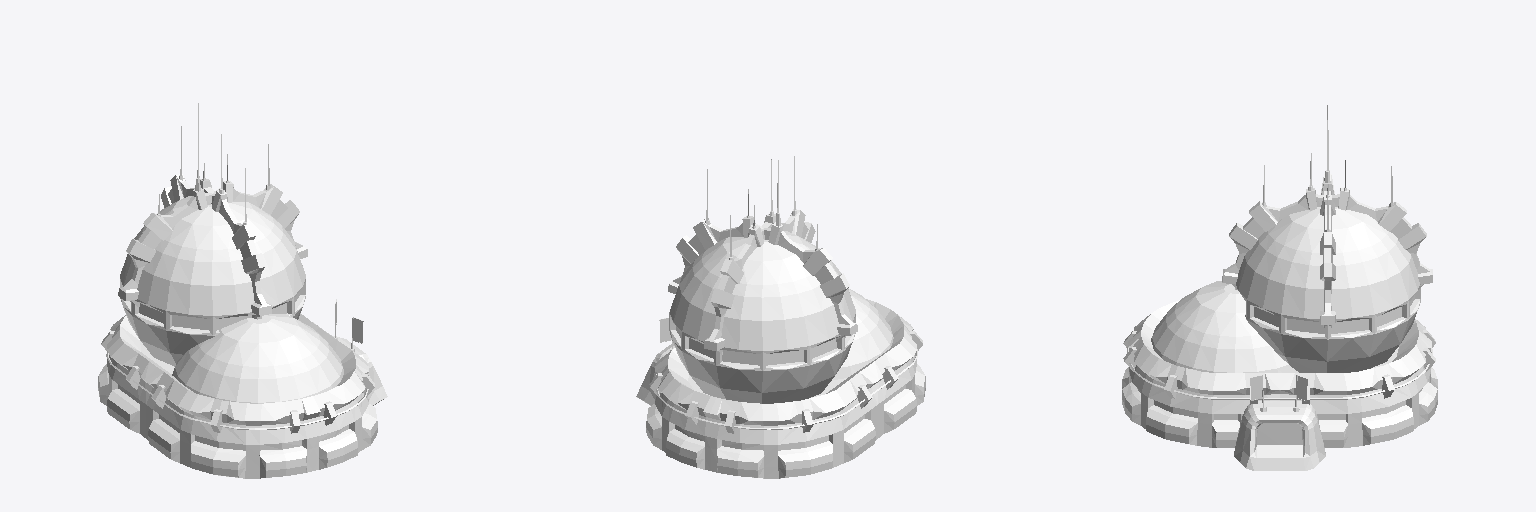
Rendered from bld-08-Constr-levels_obj.obj.
3 views of the same model, side by side, from view 1: azimuth 30°, elevation 25°; view 2: azimuth 150°, elevation 25°; view 3: azimuth 270°, elevation 25° (orthographic).
Visible parts, largest first — view 1: bld-08; view 2: bld-08; view 3: bld-08.
Part boxes in pixels (left/top/right/bottom): bld-08: left=98, top=103, right=387, bottom=478; bld-08: left=636, top=156, right=925, bottom=478; bld-08: left=1122, top=105, right=1437, bottom=470.
Bounding box in the file's own units: 10.5 × 13.69 × 12.28.